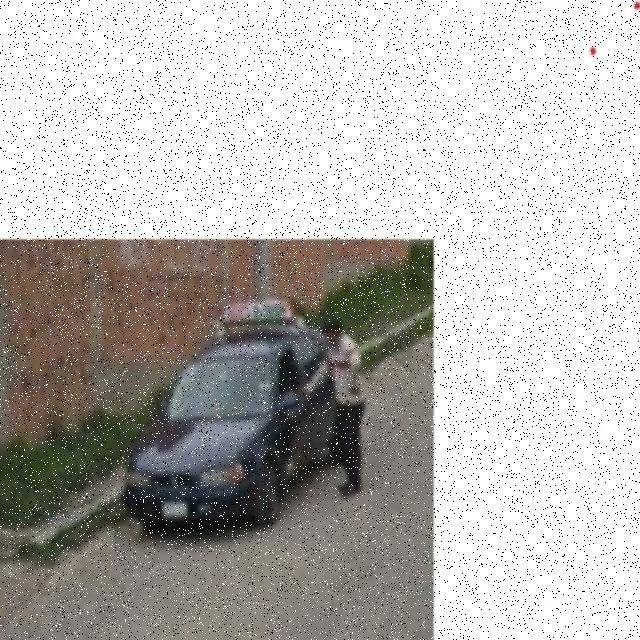cars: (144, 309, 352, 553)
